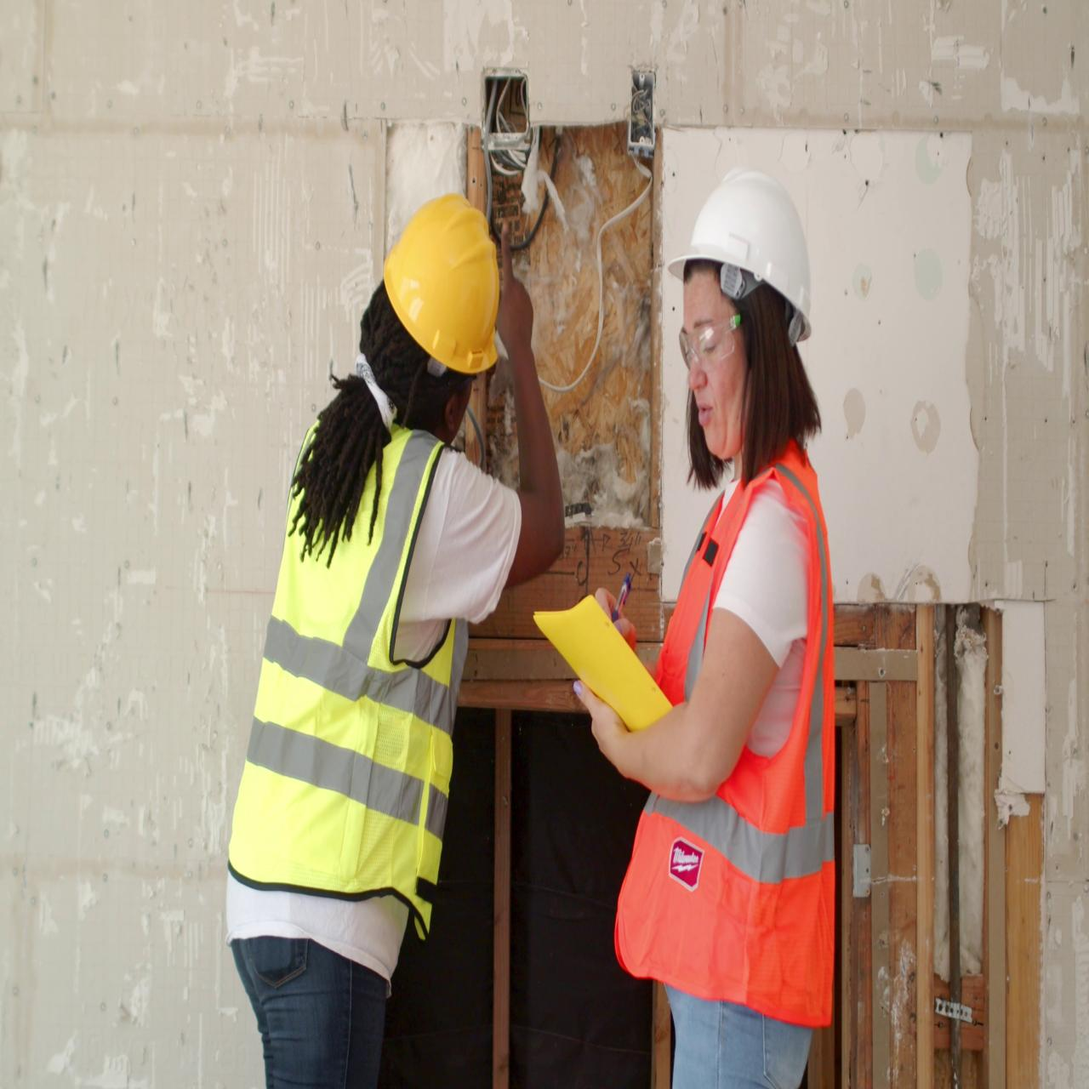Person: (216, 177, 564, 1069), (535, 151, 838, 1089)
Safety_Vest: (610, 435, 833, 1055), (231, 383, 453, 955)
